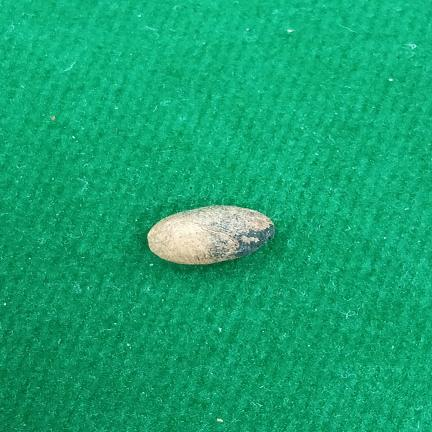partial-black: (148, 205, 275, 265)
